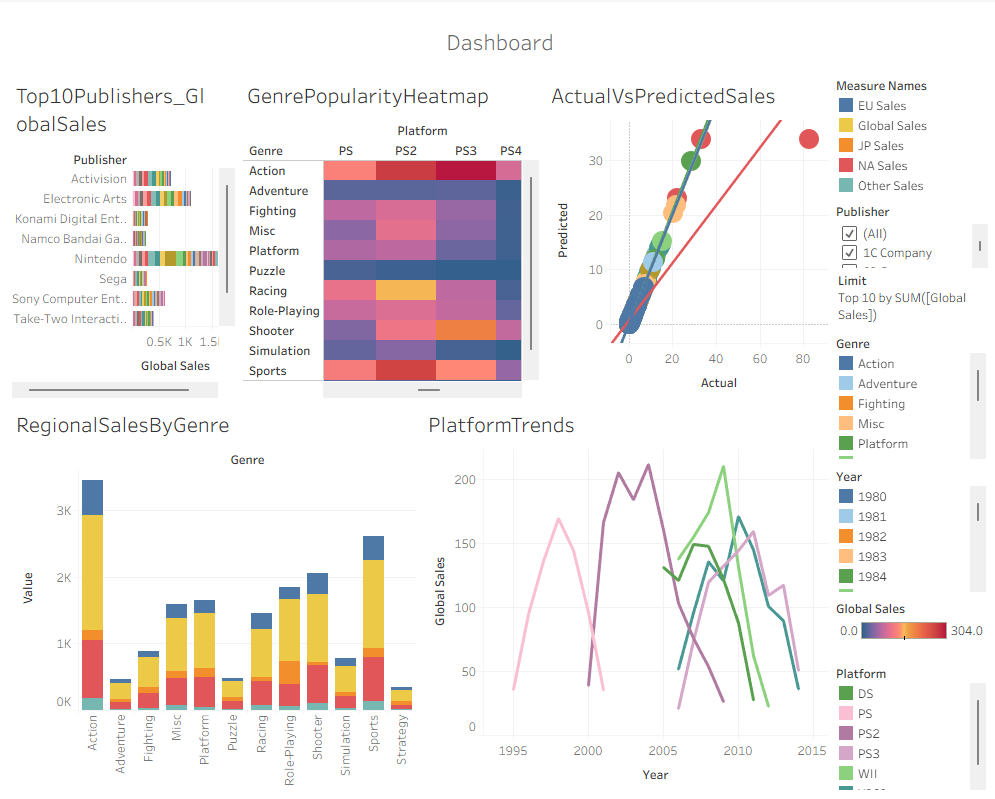

Layout of this report page (visuals, bound fields, positions):
{"tool":"tableau","page":{"name":"Dashboard 1","canvas":[1000,800],"ordinal":0},"visuals":[{"type":"text","box":[8,8,984,63]},{"type":"worksheet","title":"Top10Publishers_GlobalSales","mark":"Automatic","rows":["Publisher"],"cols":["Global_Sales"],"box":[8,71,231,329]},{"type":"worksheet","title":"GenrePopularityHeatmap","mark":"Square","rows":["Genre"],"cols":["Platform"],"box":[239,71,304,329]},{"type":"worksheet","title":"ActualVsPredictedSales","mark":"Circle","rows":["Predicted"],"cols":["Actual"],"box":[543,71,289.3,329]},{"type":"legend","title":"RegionalSalesByGenre","param":"[federated.1xzcwkk1l47cvn1ckrhqq1yj7cel].[:Measure Names]","box":[832.3,71,159.7,126]},{"type":"filter","title":"Top10Publishers_GlobalSales","param":"[federated.1xzcwkk1l47cvn1ckrhqq1yj7cel].[none:Publisher:nk]","box":[832.3,197,159.7,132.5]},{"type":"legend","title":"ActualVsPredictedSales","param":"[federated.15g5zem18gmjj81dy5som0mmxhqa].[none:Genre:nk]","box":[832.3,329.5,159.7,132.5]},{"type":"worksheet","title":"RegionalSalesByGenre","mark":"Bar","cols":["Genre"],"box":[8,400,412.2,392]},{"type":"worksheet","title":"PlatformTrends","mark":"Automatic","rows":["Global_Sales"],"cols":["Year"],"box":[420.2,400,412.2,392]},{"type":"legend","title":"Top10Publishers_GlobalSales","param":"[federated.1xzcwkk1l47cvn1ckrhqq1yj7cel].[none:Year:ok]","box":[832.3,462,159.7,132.5]},{"type":"legend","title":"GenrePopularityHeatmap","param":"[federated.1xzcwkk1l47cvn1ckrhqq1yj7cel].[sum:Global_Sales:qk]","box":[832.3,594.5,159.7,65]},{"type":"legend","title":"PlatformTrends","param":"[federated.1xzcwkk1l47cvn1ckrhqq1yj7cel].[none:Platform:nk]","box":[832.3,659.5,159.7,132.5]}]}

Visuals, with their boxes in screenshot pixels (x1, y1, x2, y2), scaled from the page's 1000x800 canvas onto the 995x799 screenshot:
text: Rect(8, 8, 987, 71)
"Top10Publishers_GlobalSales" worksheet: Rect(8, 71, 238, 400)
"GenrePopularityHeatmap" worksheet (Square marks): Rect(238, 71, 540, 400)
"ActualVsPredictedSales" worksheet (Circle marks): Rect(540, 71, 828, 400)
"RegionalSalesByGenre" legend: Rect(828, 71, 987, 197)
"Top10Publishers_GlobalSales" filter: Rect(828, 197, 987, 329)
"ActualVsPredictedSales" legend: Rect(828, 329, 987, 461)
"RegionalSalesByGenre" worksheet (Bar marks): Rect(8, 400, 418, 791)
"PlatformTrends" worksheet: Rect(418, 400, 828, 791)
"Top10Publishers_GlobalSales" legend: Rect(828, 461, 987, 594)
"GenrePopularityHeatmap" legend: Rect(828, 594, 987, 659)
"PlatformTrends" legend: Rect(828, 659, 987, 791)
